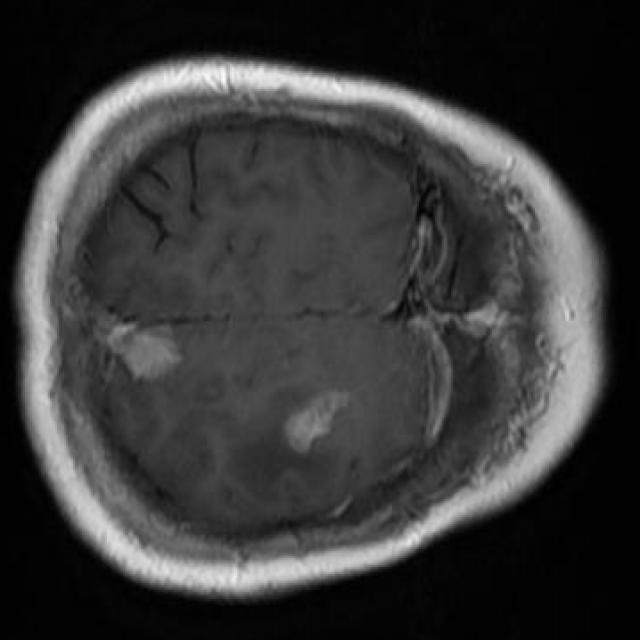glioma: (184, 389, 349, 501)
